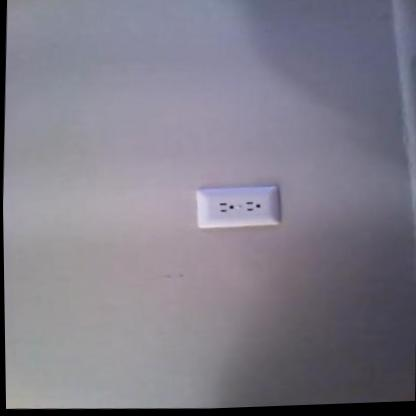OUTLET: (195, 182, 282, 231)
